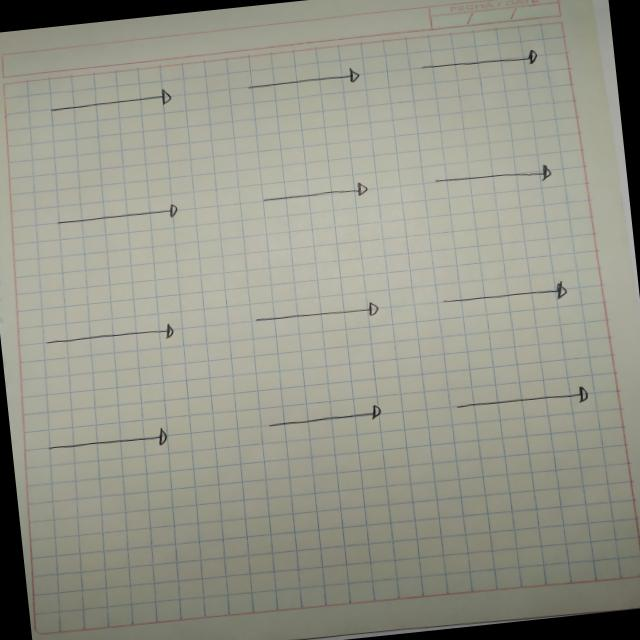arrow_line_right: (230, 56, 388, 110), (439, 375, 604, 422), (252, 390, 400, 442), (433, 273, 576, 320), (39, 82, 187, 127), (36, 316, 182, 361), (34, 420, 180, 464), (244, 297, 387, 341), (42, 198, 198, 238), (409, 41, 550, 83), (422, 156, 563, 198), (248, 178, 382, 216)
